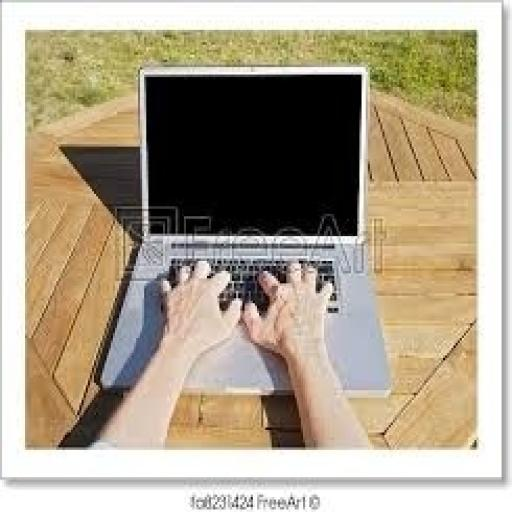using_laptop: (90, 62, 395, 400)
